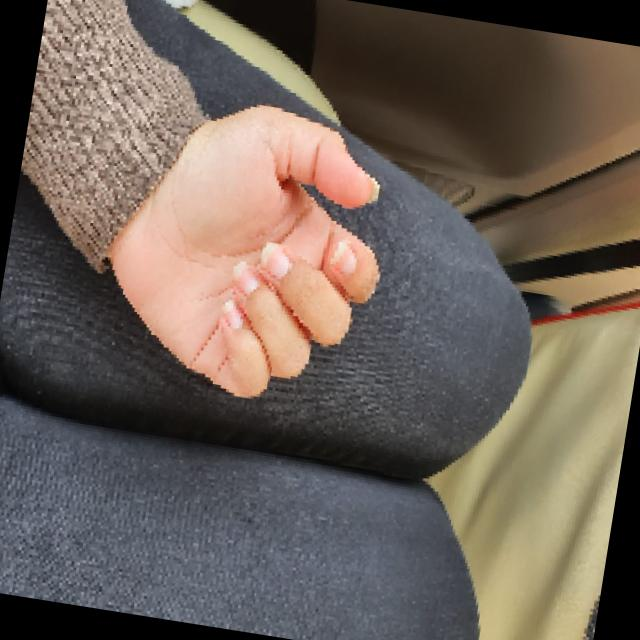Nail: (259, 242, 292, 279), (329, 240, 356, 274), (232, 261, 259, 295), (220, 298, 243, 329)
